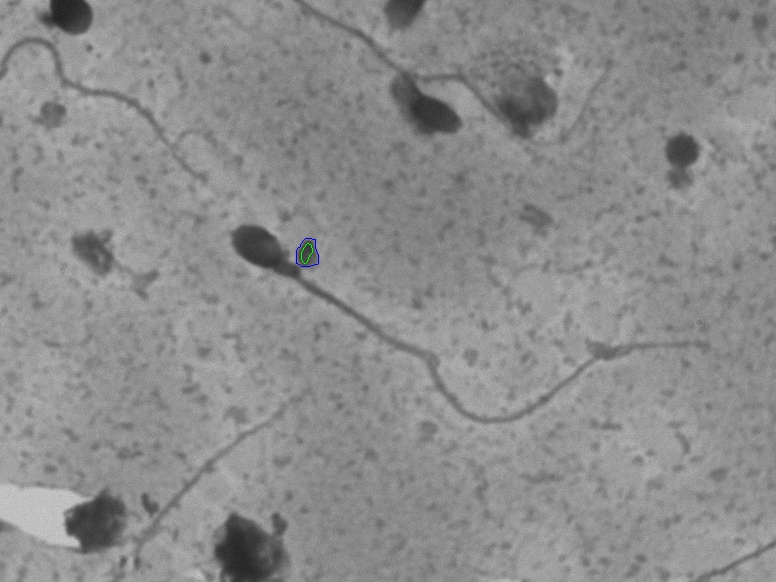Abnormal: (207, 216, 680, 437)
